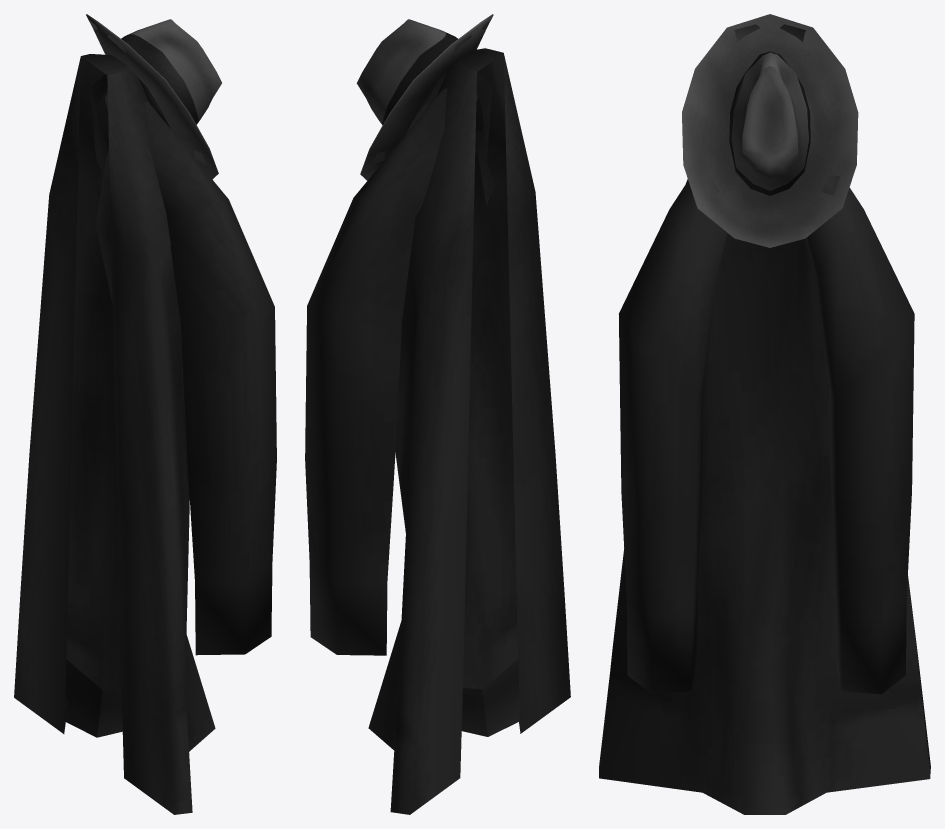
The model's file is Hat&Coat.FBX.
3 views of the same model, side by side, from view 1: azimuth 30°, elevation 25°; view 2: azimuth 150°, elevation 25°; view 3: azimuth 270°, elevation 25° (orthographic). The views are drawn at different scales.
Parts seen in each view (by area): view 1: Box200; view 2: Box200; view 3: Box200.
Boxes of the visible parts, box(x1,y1,x2,y2) form: Box200: box(14, 14, 276, 814); Box200: box(305, 14, 570, 814); Box200: box(599, 14, 930, 814).
Bounding box in the file's own units: 83.62 × 464 × 183.
Materials: 1 (1 with a texture image).
